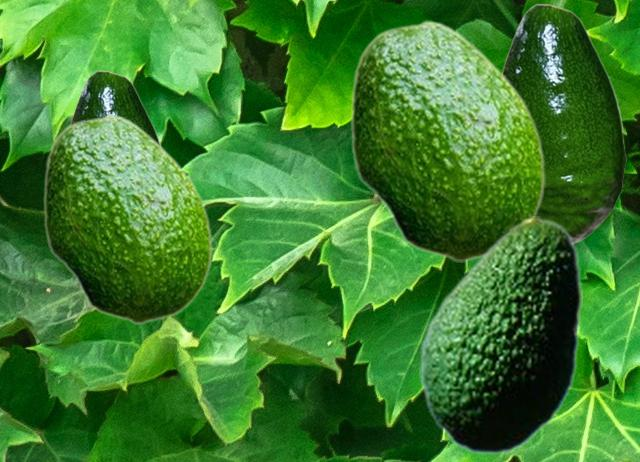avocado: (349, 19, 544, 261), (419, 216, 581, 454), (42, 113, 211, 323), (500, 3, 625, 244), (70, 70, 162, 143)
